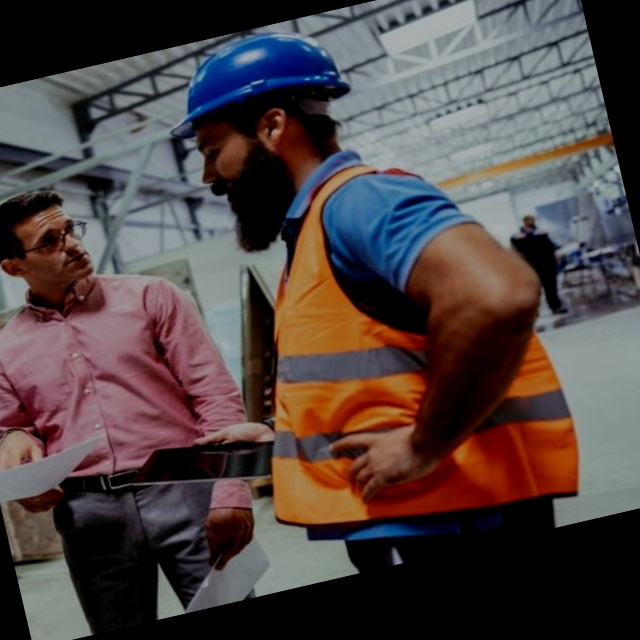Con_Casco: (152, 14, 370, 207)
Con_Chaleco: (206, 132, 588, 546)
Sin_Casco_Mascarrilla: (0, 181, 94, 301)
Sin_Chaleco: (0, 259, 229, 527)
